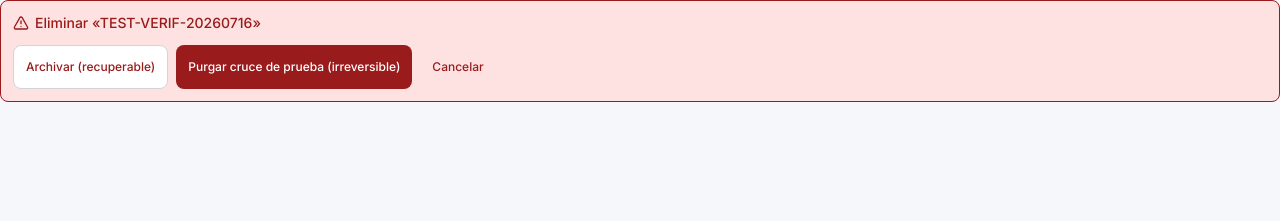
Test: PanelBorrar — bloqueo por datos reales colados en un cruce de prueba › con evaluaciones terminadas rechaza la purga y no ofrece confirmación
What coordinates should you click on to do the following:
click the button "Purgar cruce de prueba (irreversible)"
I would click on:
 (294, 67)
Its box is [176,45,412,89].
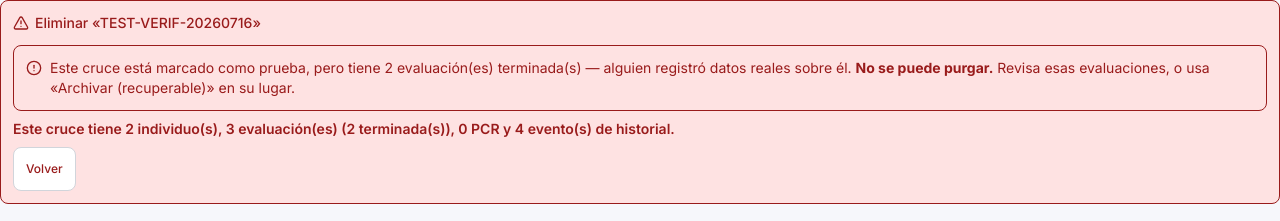
Expected: the text "alguien registró datos reales sobre él" is shown, [393,59,856,76]
Expected: the text "2 terminada(s)" is shown, [13,120,675,137]
